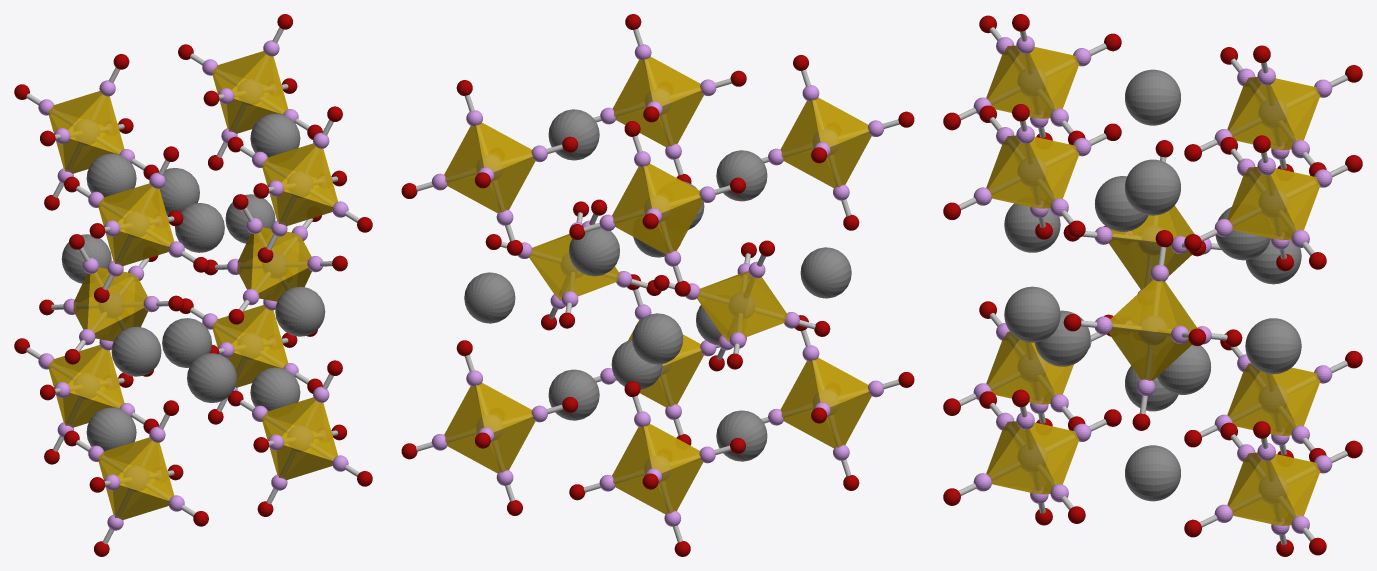
File: K3Fe(CN)6_wrl.fbx
The picture shows the model from 3 angles, left to right: view 1: azimuth 30°, elevation 25°; view 2: azimuth 150°, elevation 25°; view 3: azimuth 270°, elevation 25°; orthographic projection. The views are drawn at different scales.
Parts seen in each view (by area): view 1: atom5_IndexedFaceSet.002, atom0_IndexedFaceSet, atom5_IndexedFaceSet, Shape_IndexedFaceSet.010, Shape_IndexedFaceSet.034, Shape_IndexedFaceSet.026, Shape_IndexedFaceSet.050, Shape_IndexedFaceSet.018, Shape_IndexedFaceSet.002, Shape_IndexedFaceSet.058, Shape_IndexedFaceSet.042, Shape_IndexedFaceSet.066 (+68 smaller); view 2: atom5_IndexedFaceSet.002, atom5_IndexedFaceSet.001, atom5_IndexedFaceSet.003, Shape_IndexedFaceSet.071, atom2_IndexedFaceSet, atom4_IndexedFaceSet, atom4_IndexedFaceSet.002, atom4_IndexedFaceSet.003, atom4_IndexedFaceSet.001, Shape_IndexedFaceSet.068, Shape_IndexedFaceSet.030, Shape_IndexedFaceSet.046 (+62 smaller); view 3: Shape_IndexedFaceSet.060, Shape_IndexedFaceSet.044, Shape_IndexedFaceSet.036, Shape_IndexedFaceSet.052, atom4_IndexedFaceSet.003, atom4_IndexedFaceSet, atom4_IndexedFaceSet.001, atom5_IndexedFaceSet.001, atom5_IndexedFaceSet, Shape_IndexedFaceSet.004, Shape_IndexedFaceSet.012, Shape_IndexedFaceSet.020 (+58 smaller).
Part boxes in pixels (<box>): atom5_IndexedFaceSet.002: <box>111,326,161,376</box>; atom0_IndexedFaceSet: <box>187,353,236,402</box>; atom5_IndexedFaceSet: <box>275,286,325,336</box>; Shape_IndexedFaceSet.010: <box>118,186,174,246</box>; Shape_IndexedFaceSet.034: <box>232,54,288,114</box>; Shape_IndexedFaceSet.026: <box>118,440,174,500</box>; Shape_IndexedFaceSet.050: <box>232,308,288,368</box>; Shape_IndexedFaceSet.018: <box>68,348,124,408</box>; Shape_IndexedFaceSet.002: <box>68,94,124,154</box>; Shape_IndexedFaceSet.058: <box>281,400,337,460</box>; Shape_IndexedFaceSet.042: <box>281,146,337,206</box>; Shape_IndexedFaceSet.066: <box>87,270,144,333</box>; atom5_IndexedFaceSet.002: <box>800,247,851,298</box>; atom5_IndexedFaceSet.001: <box>464,272,515,323</box>; atom5_IndexedFaceSet.003: <box>632,313,683,364</box>; Shape_IndexedFaceSet.071: <box>697,273,754,333</box>; atom2_IndexedFaceSet: <box>569,228,619,276</box>; atom4_IndexedFaceSet: <box>548,369,599,420</box>; atom4_IndexedFaceSet.002: <box>716,410,767,461</box>; atom4_IndexedFaceSet.003: <box>716,150,767,201</box>; atom4_IndexedFaceSet.001: <box>548,109,599,160</box>; Shape_IndexedFaceSet.068: <box>740,277,787,337</box>; Shape_IndexedFaceSet.030: <box>812,357,869,407</box>; Shape_IndexedFaceSet.046: <box>644,56,701,106</box>; Shape_IndexedFaceSet.060: <box>988,428,1055,491</box>; Shape_IndexedFaceSet.044: <box>988,142,1055,205</box>; Shape_IndexedFaceSet.036: <box>1229,174,1296,237</box>; Shape_IndexedFaceSet.052: <box>1229,459,1296,523</box>; atom4_IndexedFaceSet.003: <box>1125,69,1180,125</box>; atom4_IndexedFaceSet: <box>1125,445,1180,501</box>; atom4_IndexedFaceSet.001: <box>1125,159,1180,215</box>; atom5_IndexedFaceSet.001: <box>1245,318,1301,374</box>; atom5_IndexedFaceSet: <box>1004,286,1060,342</box>; Shape_IndexedFaceSet.004: <box>1229,84,1296,147</box>; Shape_IndexedFaceSet.012: <box>988,52,1055,116</box>; Shape_IndexedFaceSet.020: <box>1229,371,1296,433</box>.
Size of the model in its own units: 1529 by 1669 by 1402.
